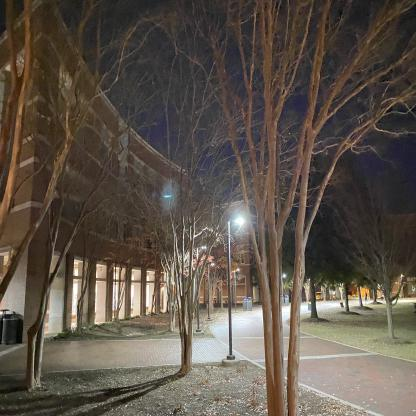eb2: (1, 11, 327, 318)
